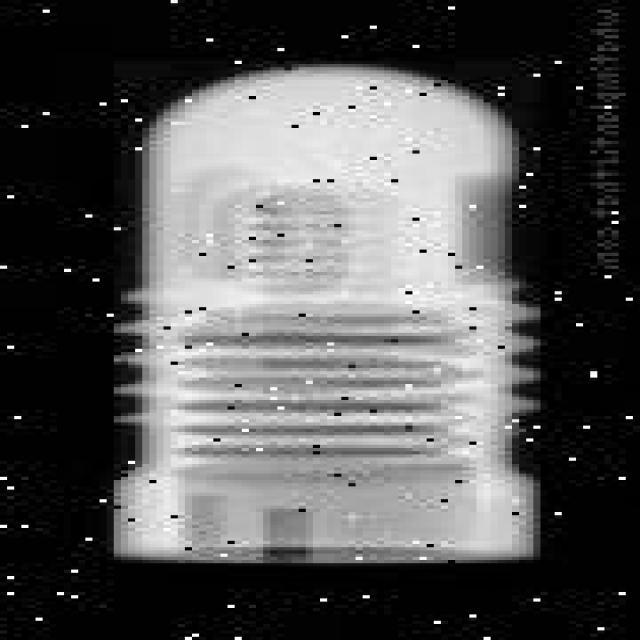Root canal obturation: (114, 61, 540, 563)
